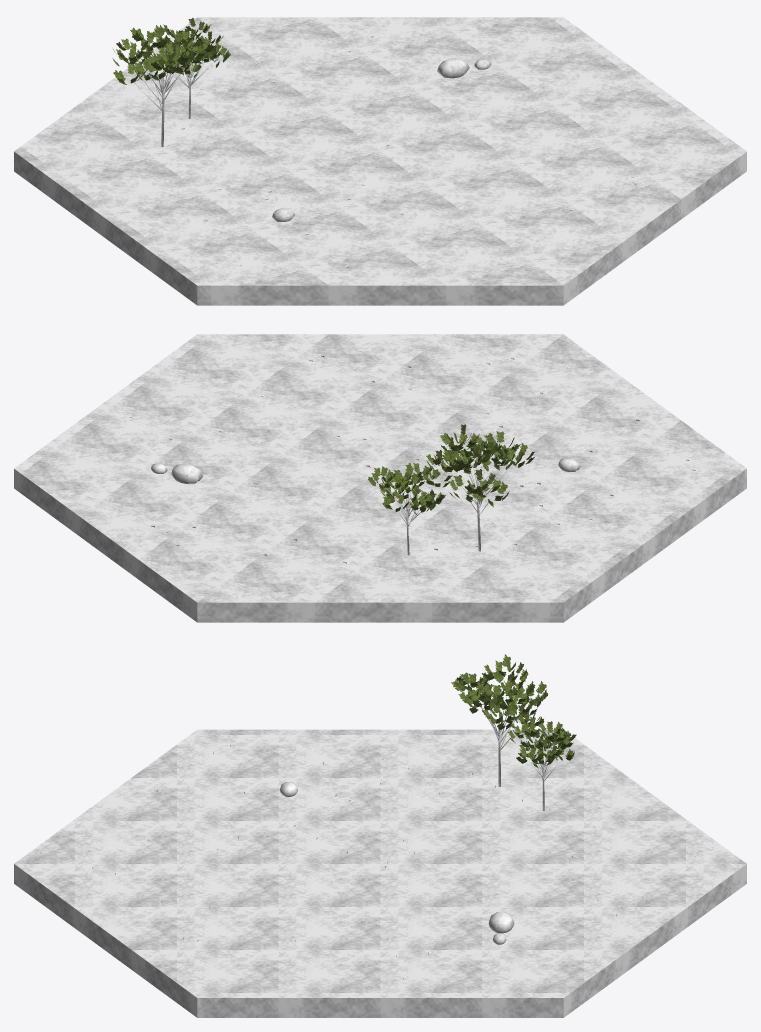
The model's file is pradera.glb.
3 renders of one model, top to bottom at view 1: azimuth 30°, elevation 25°; view 2: azimuth 150°, elevation 25°; view 3: azimuth 270°, elevation 25°, orthographic.
Parts seen in each view (by area): view 1: pradera.004; view 2: pradera.004; view 3: pradera.004.
Part boxes in pixels (x1,y1,x2,y2): pradera.004: [14, 17, 746, 305]; pradera.004: [14, 334, 746, 622]; pradera.004: [14, 654, 746, 1017].
Bounding box in the file's own units: 3.46 × 0.8428 × 4.
4 materials, 4 textured.
